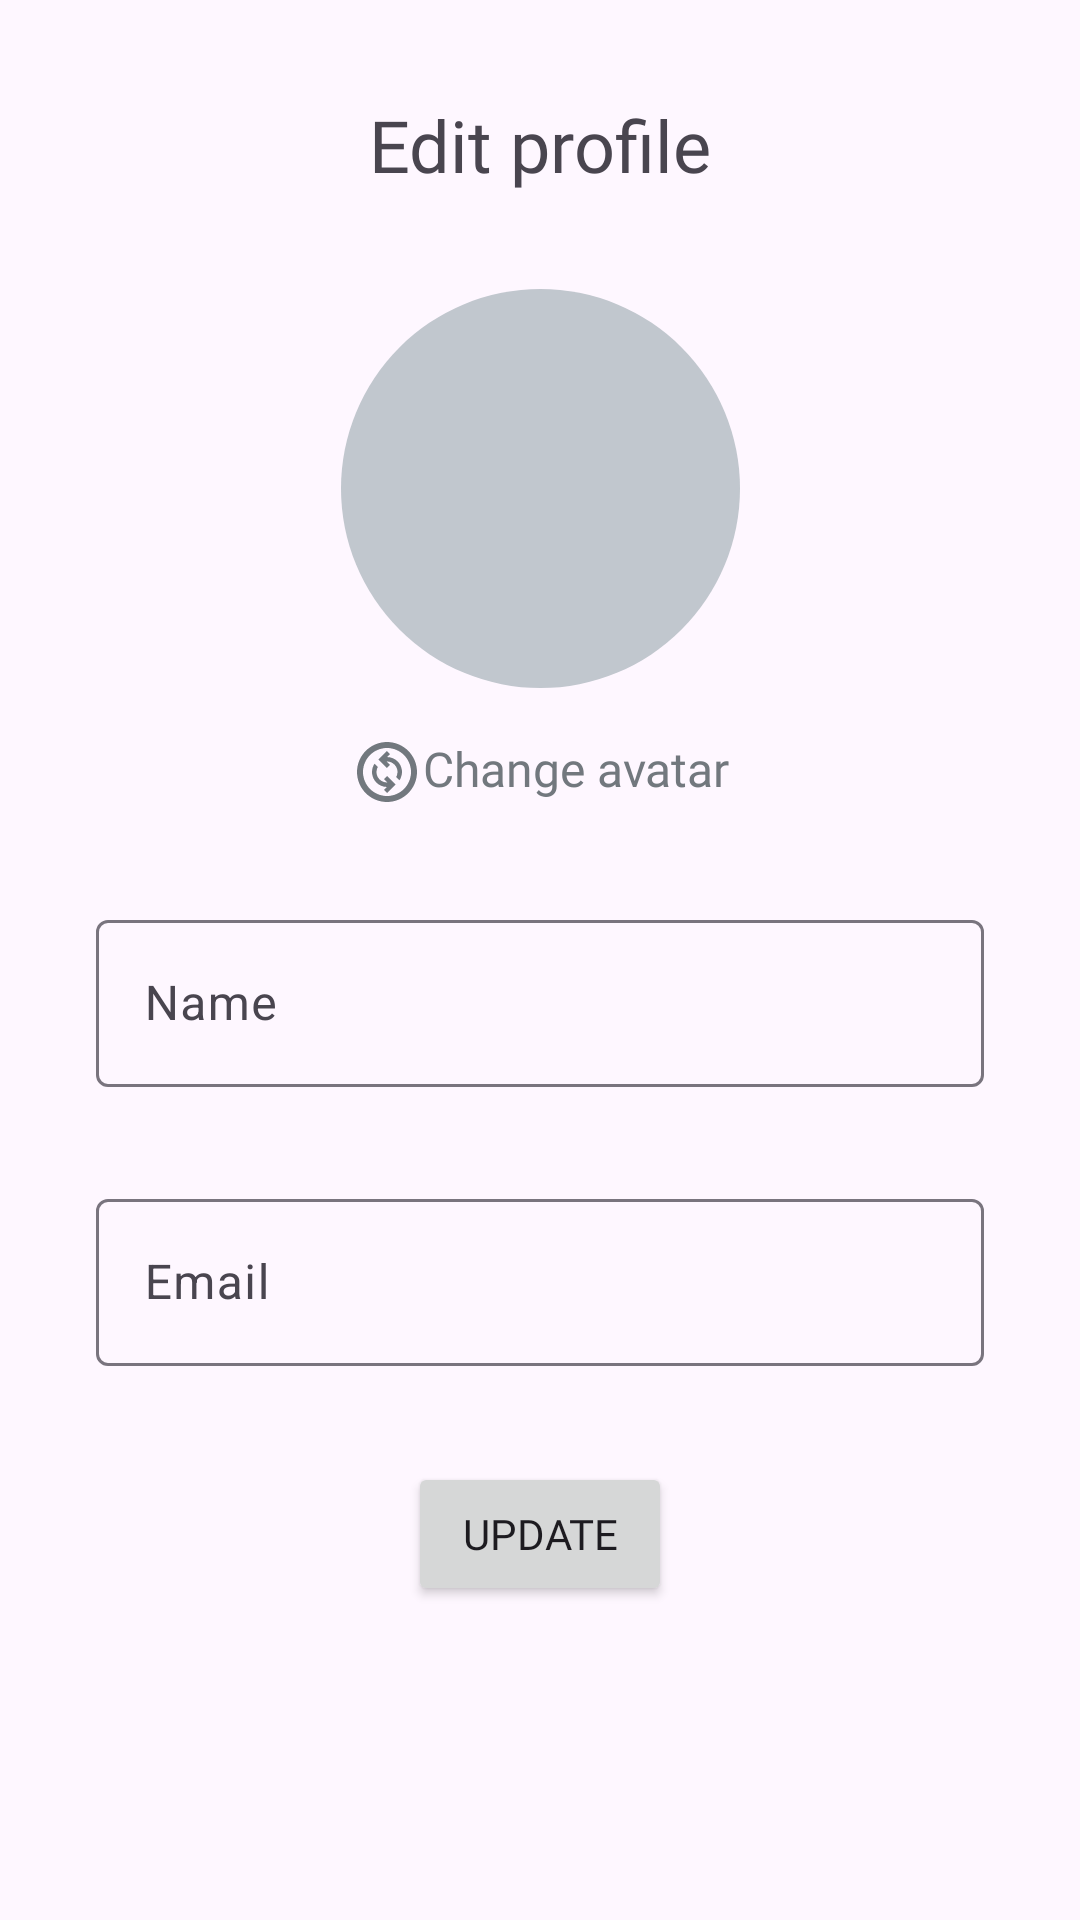

Where to tap for icons on this 1080×1920 app screen, as (x,y):
change circle: (387,772)
